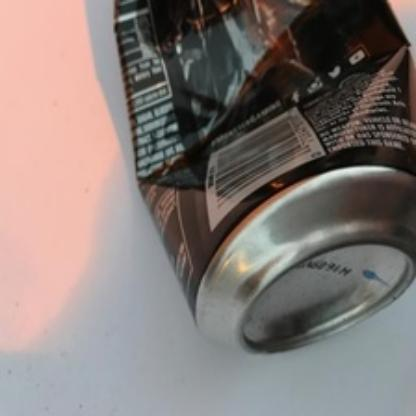Can: (114, 1, 416, 357)
